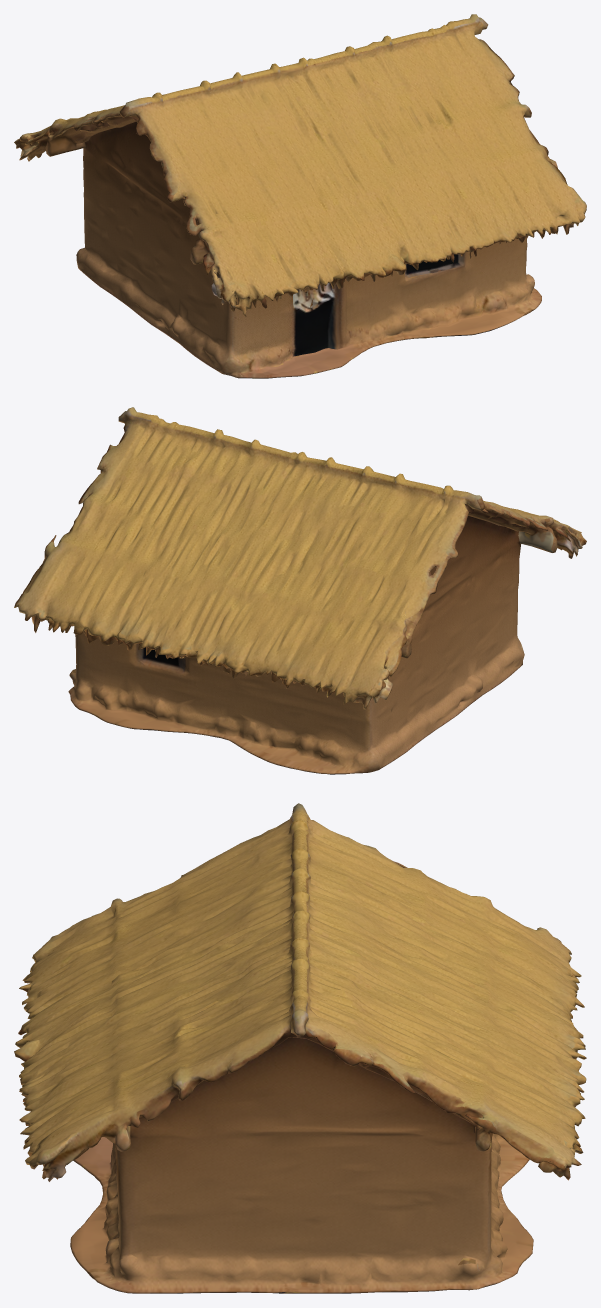
The model's file is rancho.glb.
3 views of the same model, one above another, from view 1: azimuth 30°, elevation 25°; view 2: azimuth 150°, elevation 25°; view 3: azimuth 270°, elevation 25° (orthographic). The views are drawn at different scales.
Visible parts, largest first — view 1: temp_mesh.ply; view 2: temp_mesh.ply; view 3: temp_mesh.ply.
Boxes of the visible parts, x1,y1,x2,y2 form: temp_mesh.ply: (14,14,586,378); temp_mesh.ply: (14,407,586,774); temp_mesh.ply: (14,803,586,1293).
Size of the model in its own units: 4.79 by 2.87 by 5.2.
Materials: 1 (1 with a texture image).
